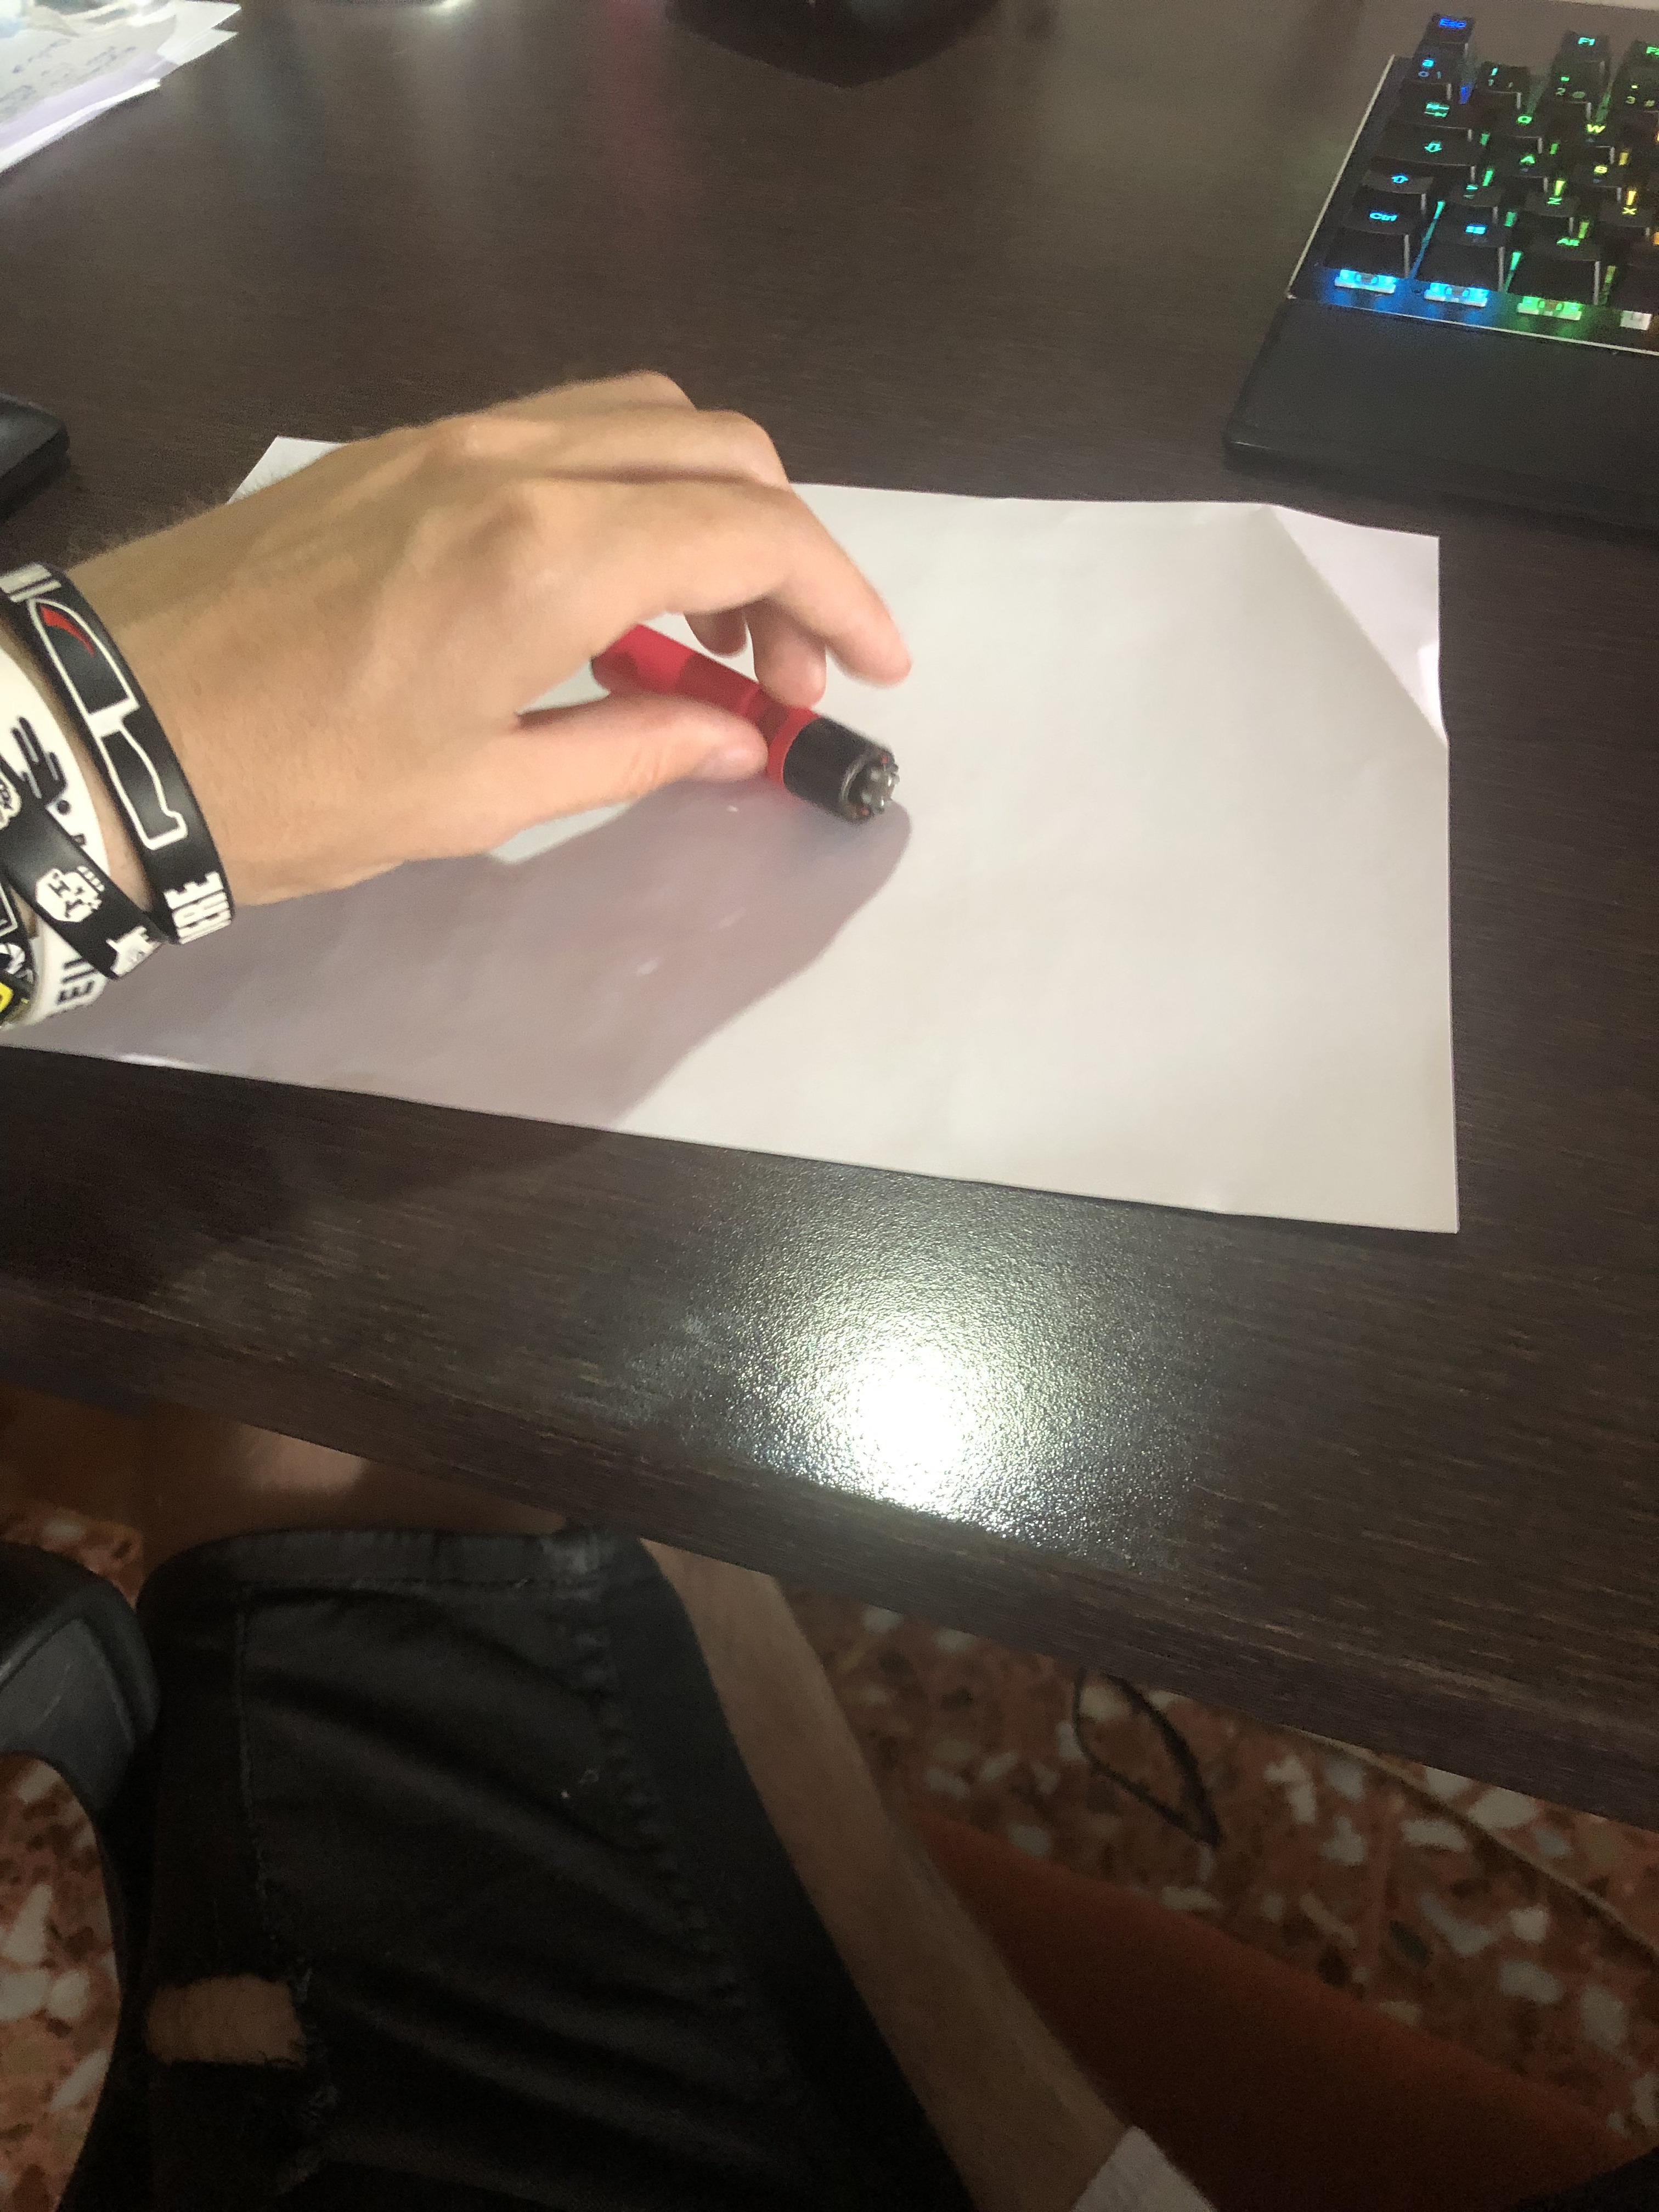Mechero: (549, 597, 945, 857)
